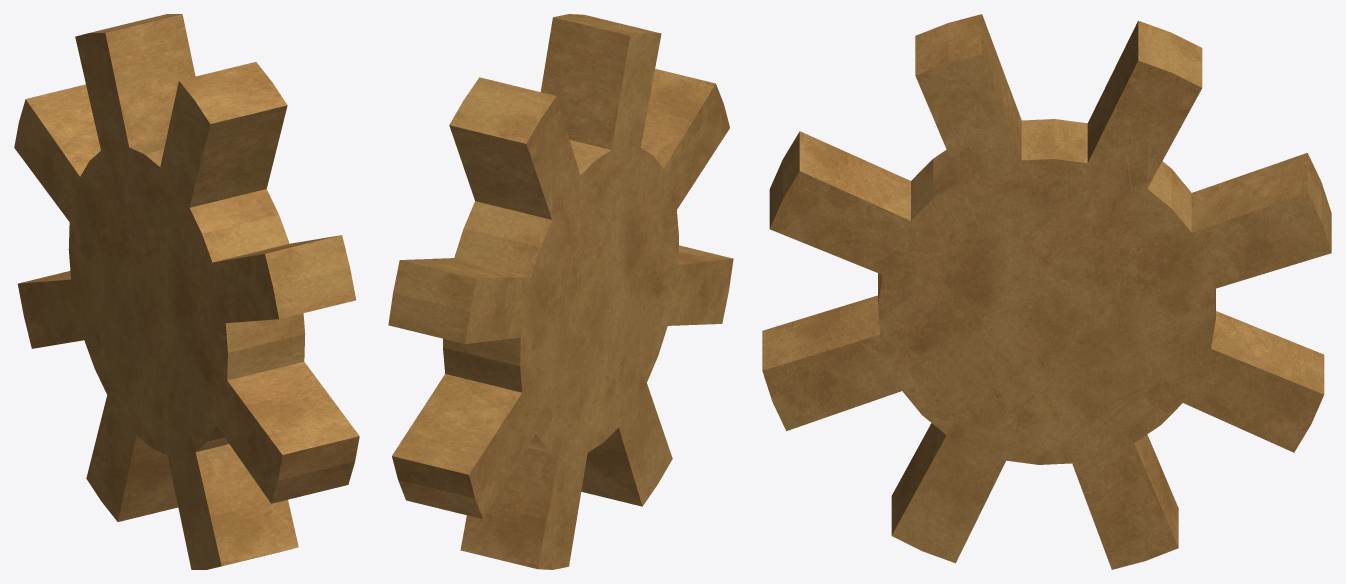
File: SoleilGearCote.fbx
3 renders of one model, left to right at view 1: azimuth 30°, elevation 25°; view 2: azimuth 150°, elevation 25°; view 3: azimuth 270°, elevation 25°, orthographic. The views are drawn at different scales.
Visible parts, largest first — view 1: SoleilGearCote; view 2: SoleilGearCote; view 3: SoleilGearCote.
Part boxes in pixels (left/top/right/bottom): SoleilGearCote: left=14, top=14, right=359, bottom=569; SoleilGearCote: left=388, top=14, right=733, bottom=569; SoleilGearCote: left=762, top=14, right=1331, bottom=569.
Bounding box in the file's own units: 10 × 60.19 × 60.19.
Materials: 1 (1 with a texture image).
